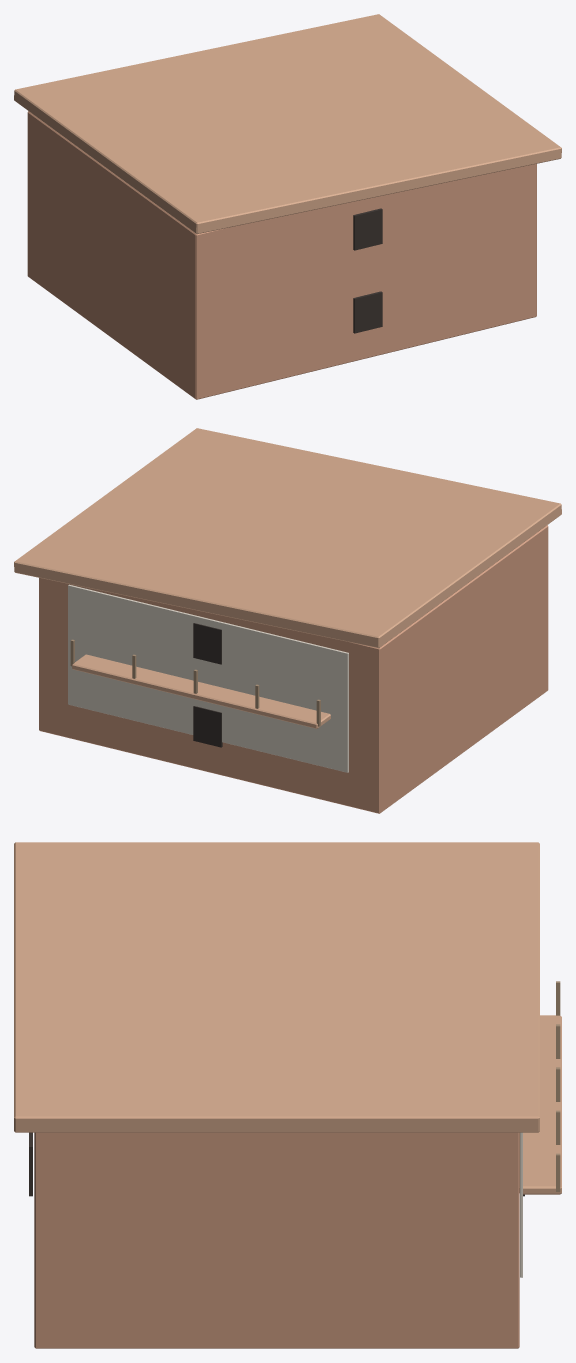
File: insula_a.glb
The picture shows the model from 3 angles, top to bottom: view 1: azimuth 30°, elevation 25°; view 2: azimuth 150°, elevation 25°; view 3: azimuth 270°, elevation 25°; orthographic projection. The views are drawn at different scales.
Parts seen in each view (by area): view 1: body, roof, win_0_-1, win_1_-1; view 2: roof, body, bay, balcony, win_0_1, win_1_1; view 3: roof, body, balcony.
Part boxes in pixels (x1,y1,x2,y2): body: (27,111,536,399); roof: (14,14,561,234); win_0_-1: (353,291,382,333); win_1_-1: (353,208,382,250); roof: (14,428,561,648); body: (39,525,548,813); bay: (68,584,348,772); balcony: (72,654,330,728); win_0_1: (193,706,222,747); win_1_1: (193,623,221,664); roof: (14,842,539,1132); body: (34,1132,519,1348); balcony: (519,1015,561,1194).
Size of the model in its own units: 15 by 7.2 by 13.55.
